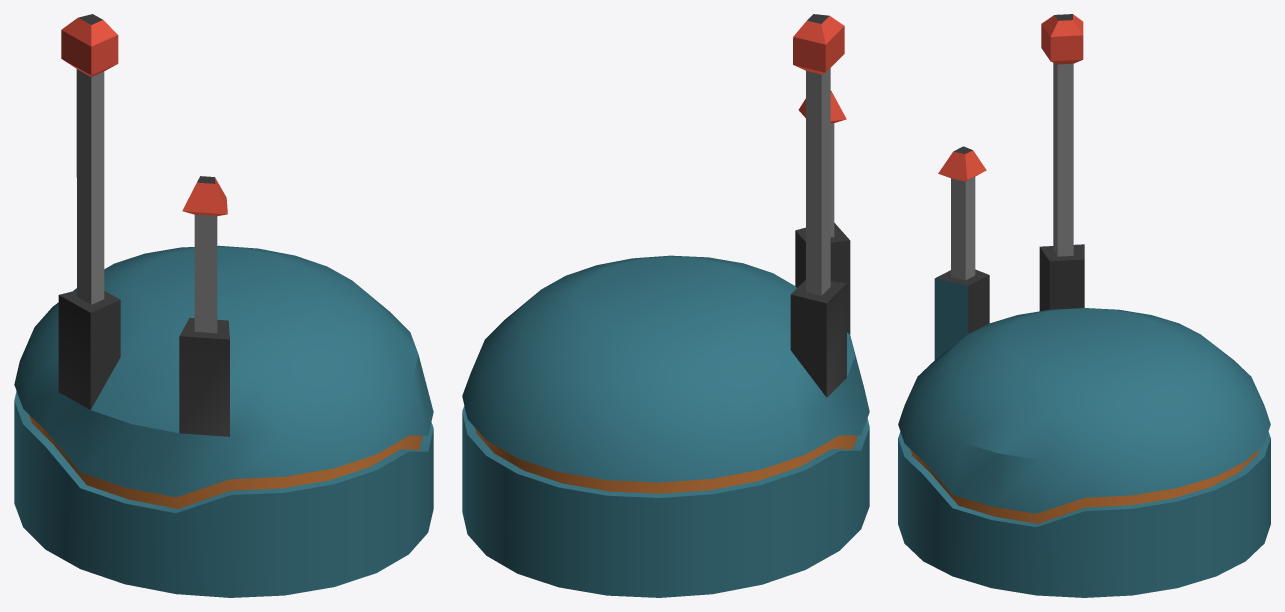
Rendered from sensor.glb.
3 renders of one model, left to right at view 1: azimuth 30°, elevation 25°; view 2: azimuth 150°, elevation 25°; view 3: azimuth 270°, elevation 25°, orthographic. The views are drawn at different scales.
Visible parts, largest first — view 1: Sensor; view 2: Sensor; view 3: Sensor.
Boxes of the visible parts, x1,y1,x2,y2 form: Sensor: [14, 14, 433, 597]; Sensor: [462, 14, 869, 597]; Sensor: [898, 14, 1270, 597].
Size of the model in its own units: 0.671 by 0.9545 by 0.7202.
